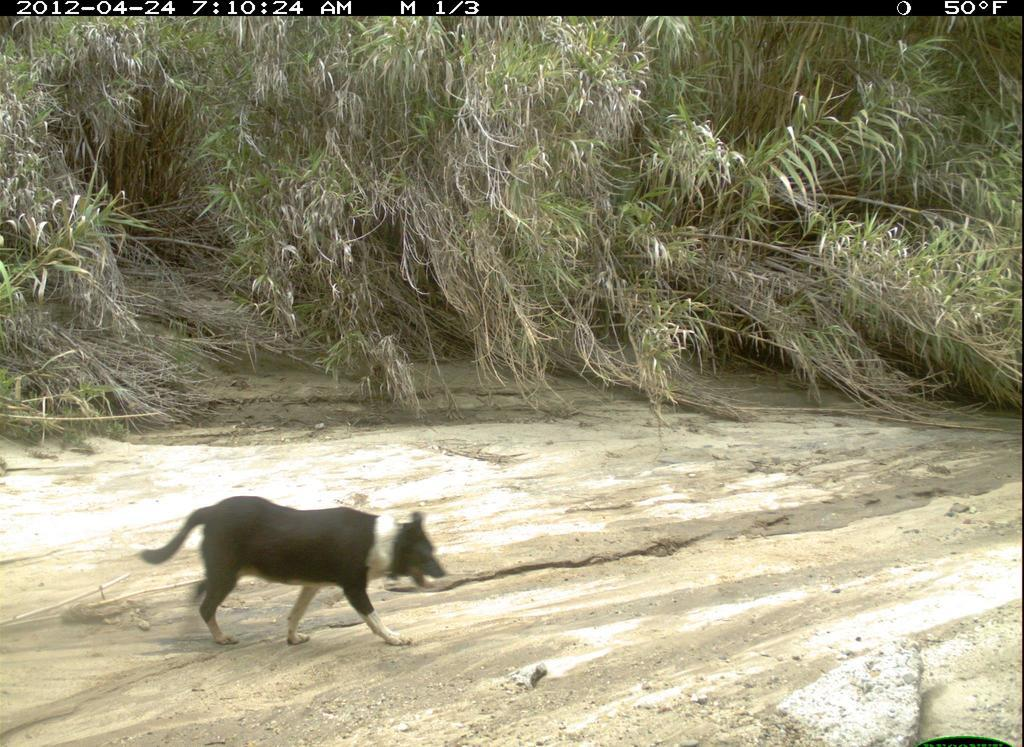dog: (129, 492, 460, 660)
